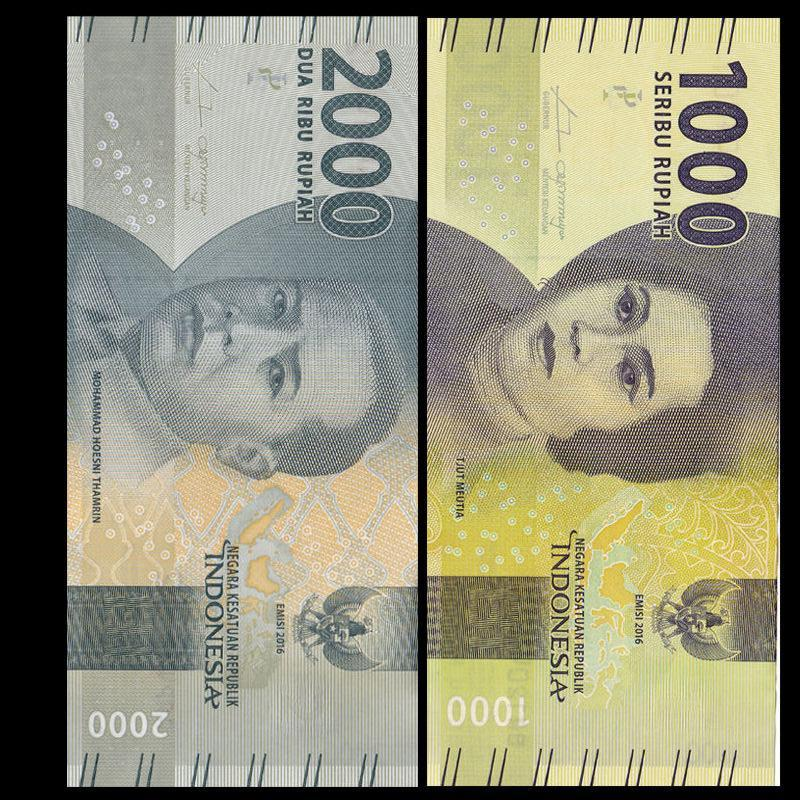1000IndonesianRupiah: (424, 10, 780, 786)
